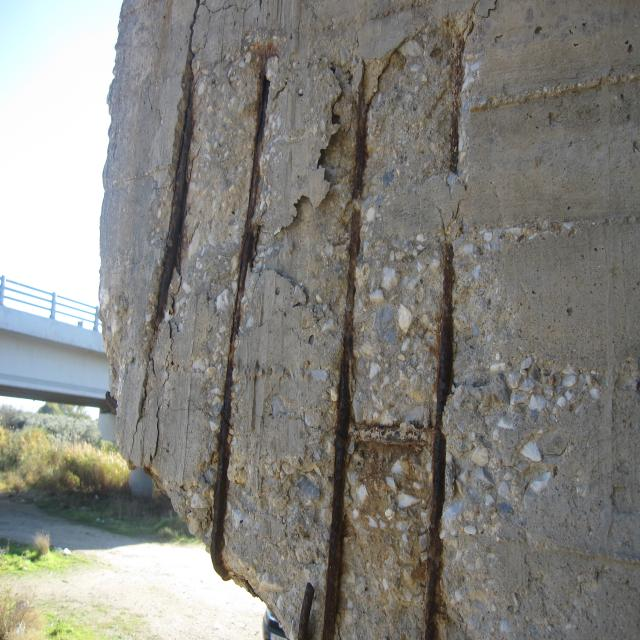corrosion: (116, 4, 473, 640)
